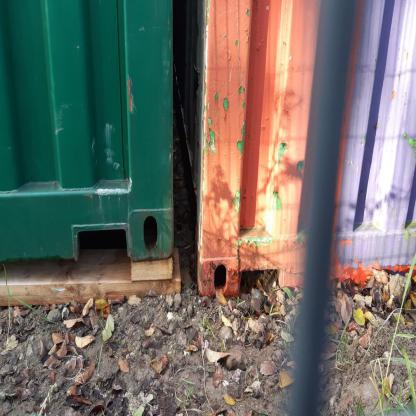CornerCasting: (122, 200, 188, 274), (186, 248, 244, 303)
